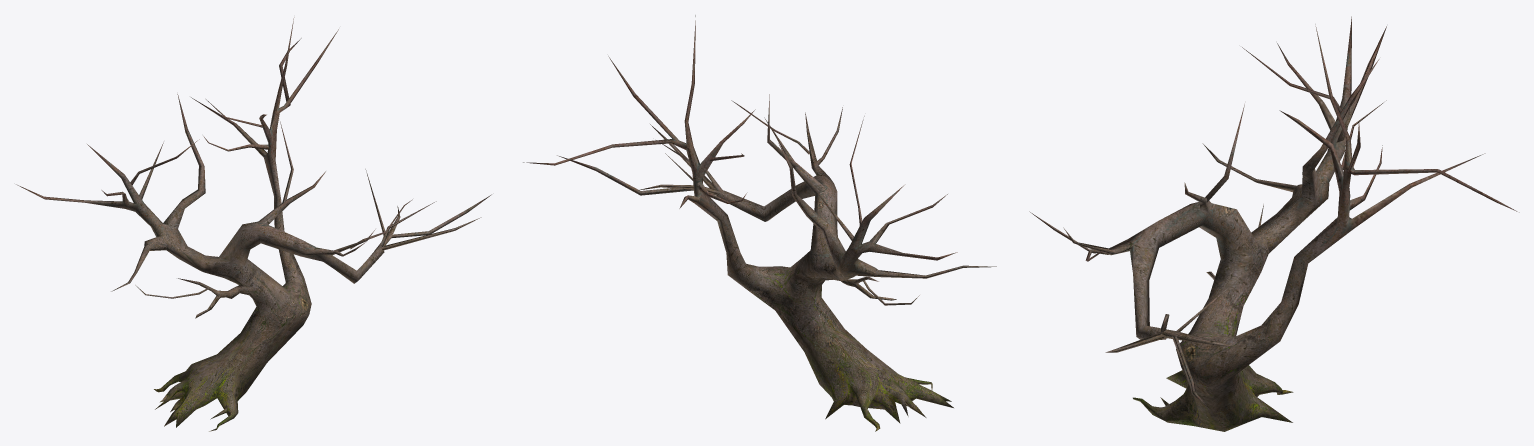
Rendered from p_com_taoshugan01_01_lod1.FBX.
The picture shows the model from 3 angles, left to right: view 1: azimuth 30°, elevation 25°; view 2: azimuth 150°, elevation 25°; view 3: azimuth 270°, elevation 25°; orthographic projection. The views are drawn at different scales.
Visible parts, largest first — view 1: p_com_taoshugan01_01_lod1; view 2: p_com_taoshugan01_01_lod1; view 3: p_com_taoshugan01_01_lod1.
Boxes of the visible parts, bbox=[...] form: p_com_taoshugan01_01_lod1: bbox=[16, 17, 491, 431]; p_com_taoshugan01_01_lod1: bbox=[523, 15, 996, 431]; p_com_taoshugan01_01_lod1: bbox=[1029, 16, 1519, 431].
Bounding box in the file's own units: 13.38 × 10.43 × 9.64.
